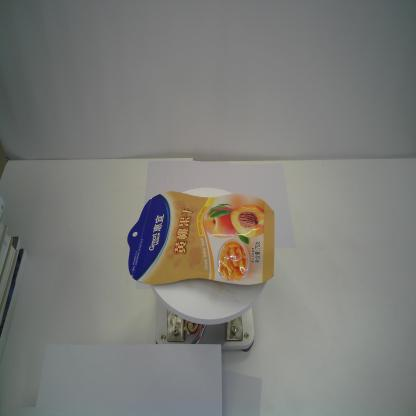Dried Fruit: (126, 191, 276, 286)
